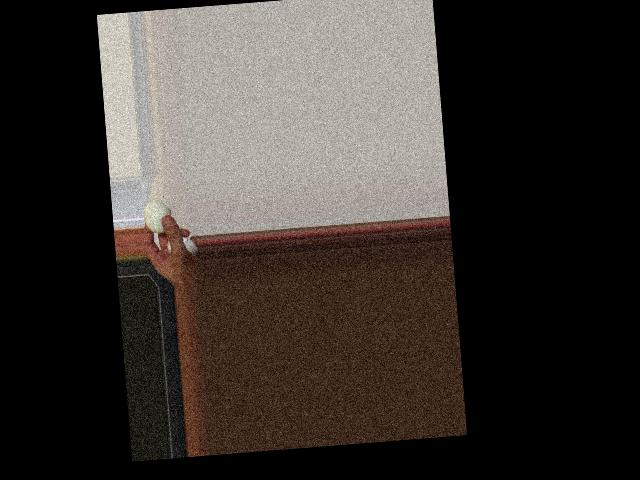egg: (142, 198, 172, 233)
